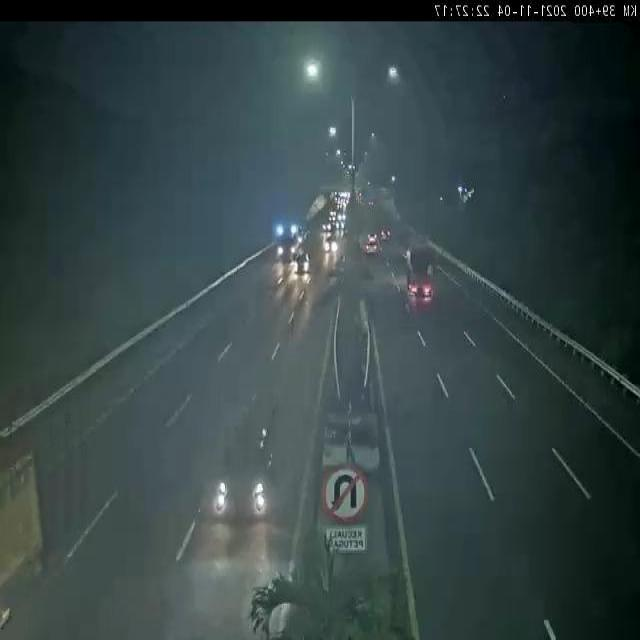Car: (210, 420, 278, 526), (324, 236, 338, 259), (364, 238, 377, 255)
Truck: (404, 244, 437, 302), (276, 217, 308, 263)
